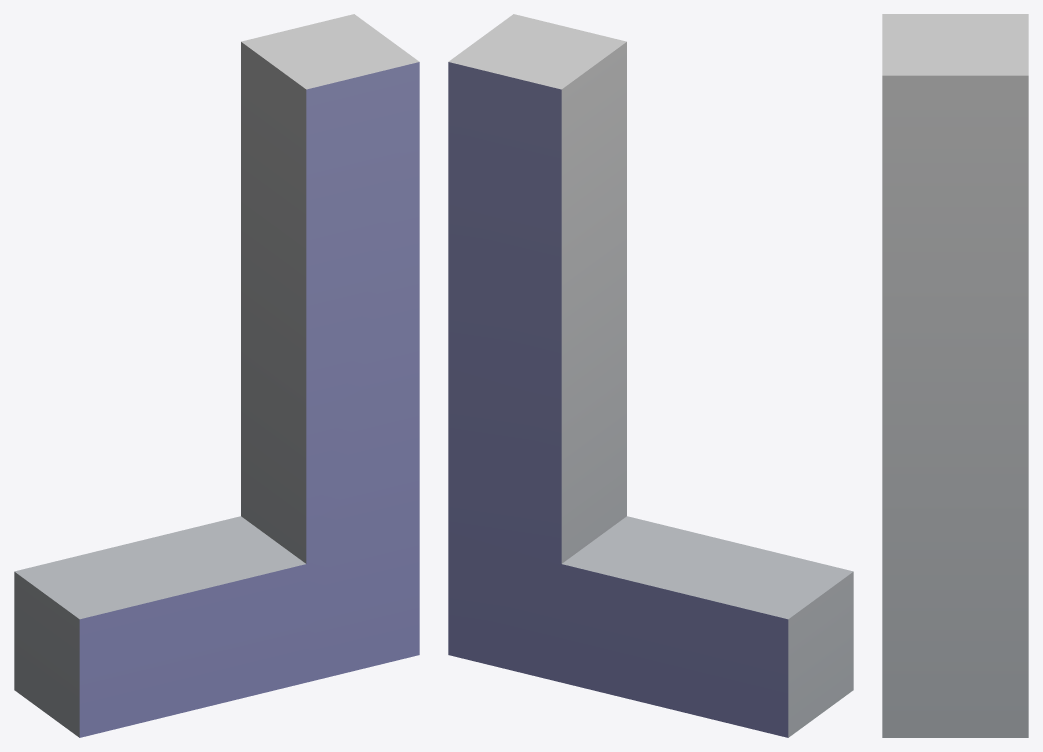
File: letter-l_0.glb
3 views of the same model, side by side, from view 1: azimuth 30°, elevation 25°; view 2: azimuth 150°, elevation 25°; view 3: azimuth 270°, elevation 25° (orthographic). The views are drawn at different scales.
Visible parts, largest first — view 1: letter-l; view 2: letter-l; view 3: letter-l.
Part boxes in pixels (x1=…): letter-l: x1=14, y1=14, x2=419, y2=737; letter-l: x1=448, y1=14, x2=853, y2=737; letter-l: x1=882, y1=14, x2=1028, y2=737.
Size of the model in its own units: 0.3 by 0.5 by 0.1.
